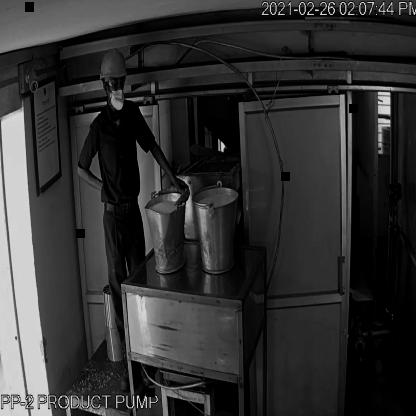helmet: (90, 48, 145, 84)
